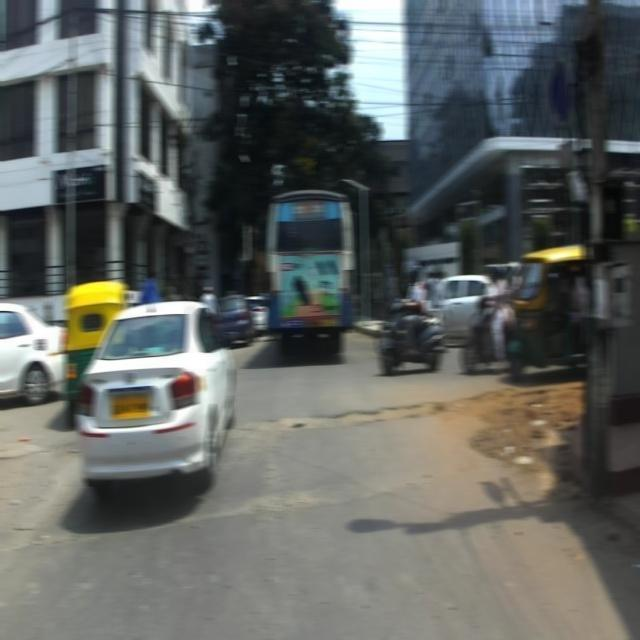Pothole: (245, 392, 451, 444)
